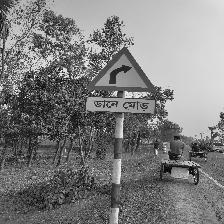Right-turn: (85, 48, 159, 115)
